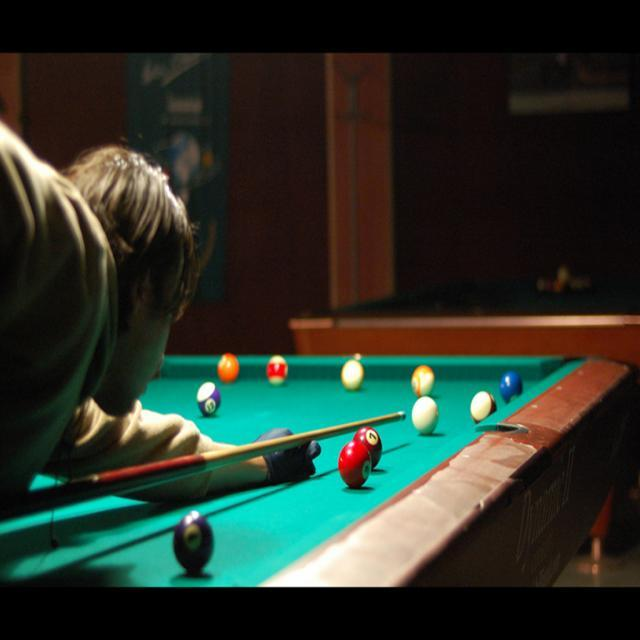Ball: (173, 510, 214, 570), (336, 440, 372, 490), (352, 423, 382, 471), (410, 396, 440, 436), (470, 388, 497, 428), (196, 382, 222, 418), (410, 362, 436, 397), (498, 369, 524, 404), (266, 354, 288, 388), (341, 360, 365, 391), (217, 352, 240, 384)
Billiard table: (0, 353, 639, 586)
